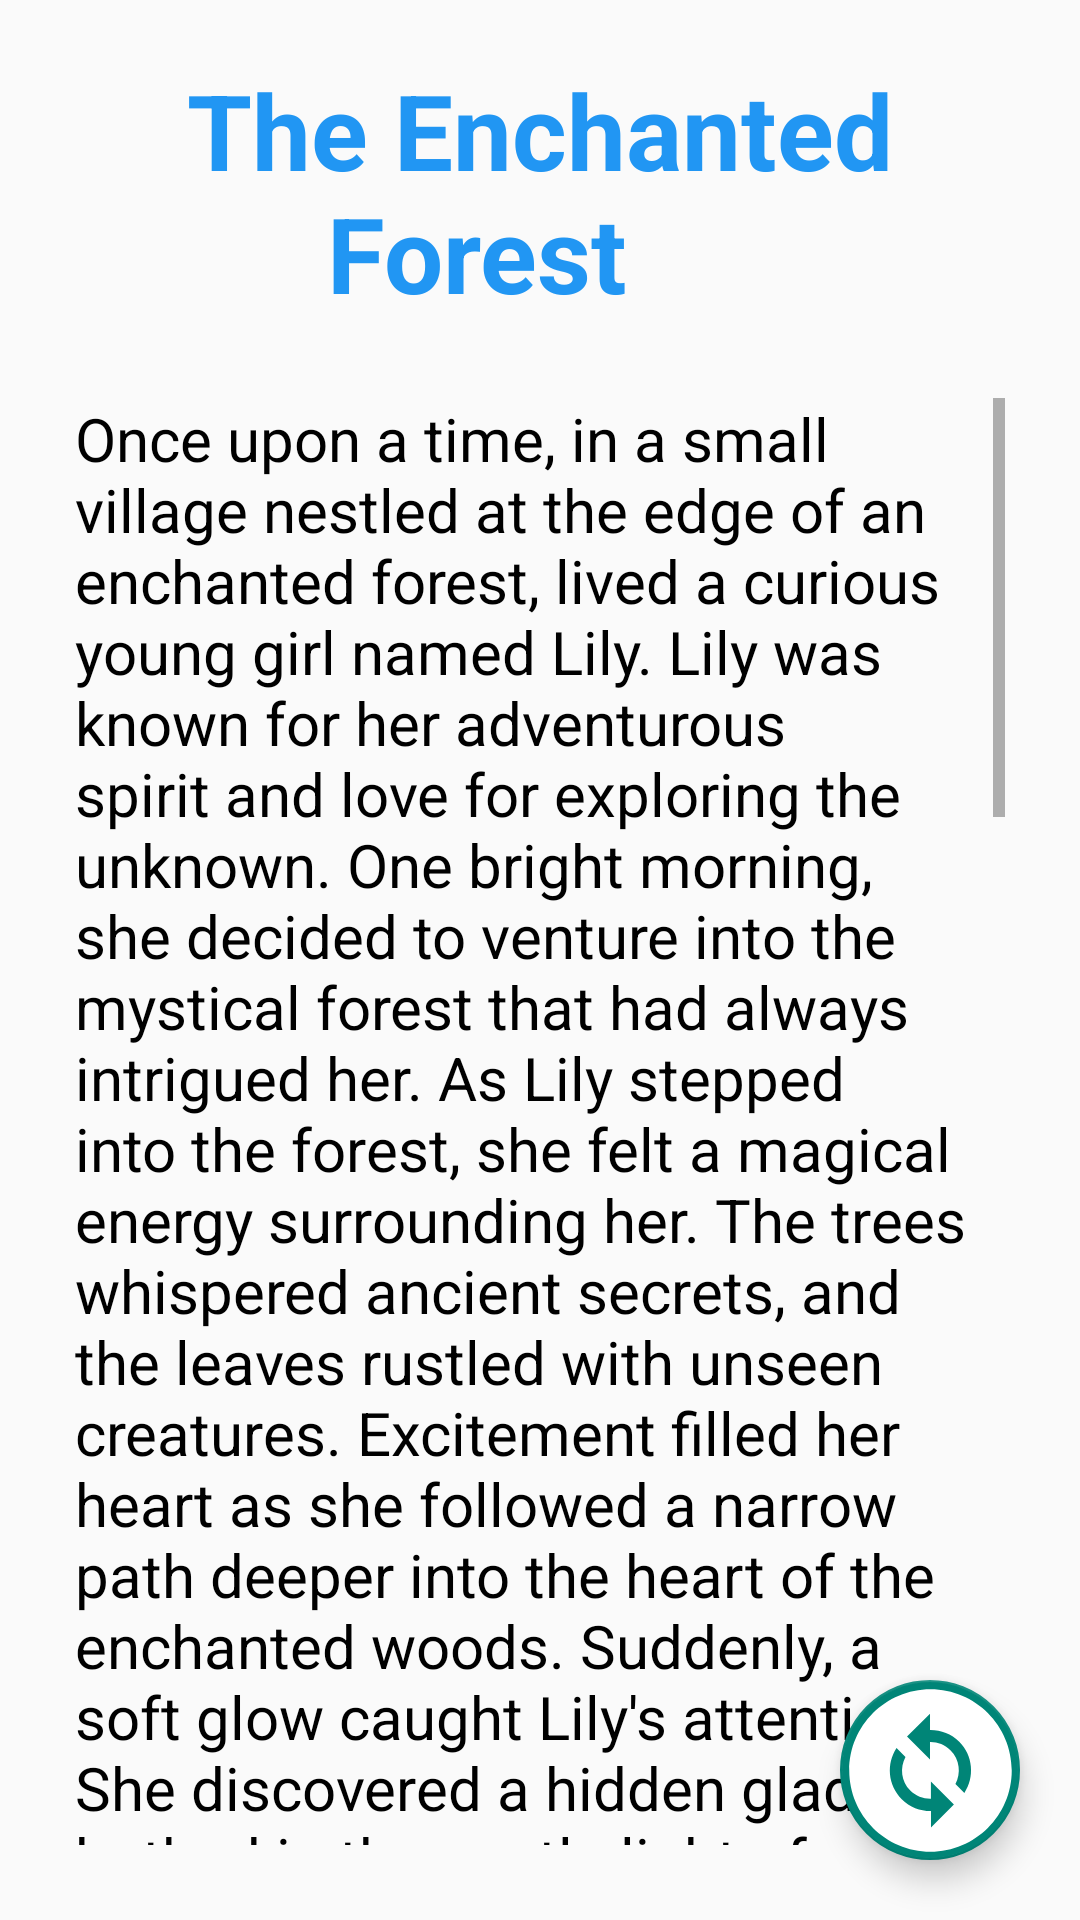

Where to tap for icons on this 1080×1920 app screen, as (x,y):
change circle: (930,1770)
